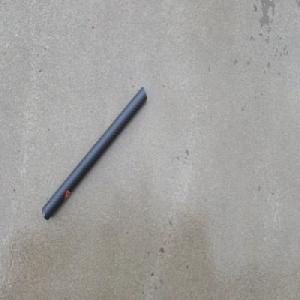LuggagePart: (41, 86, 147, 222)
